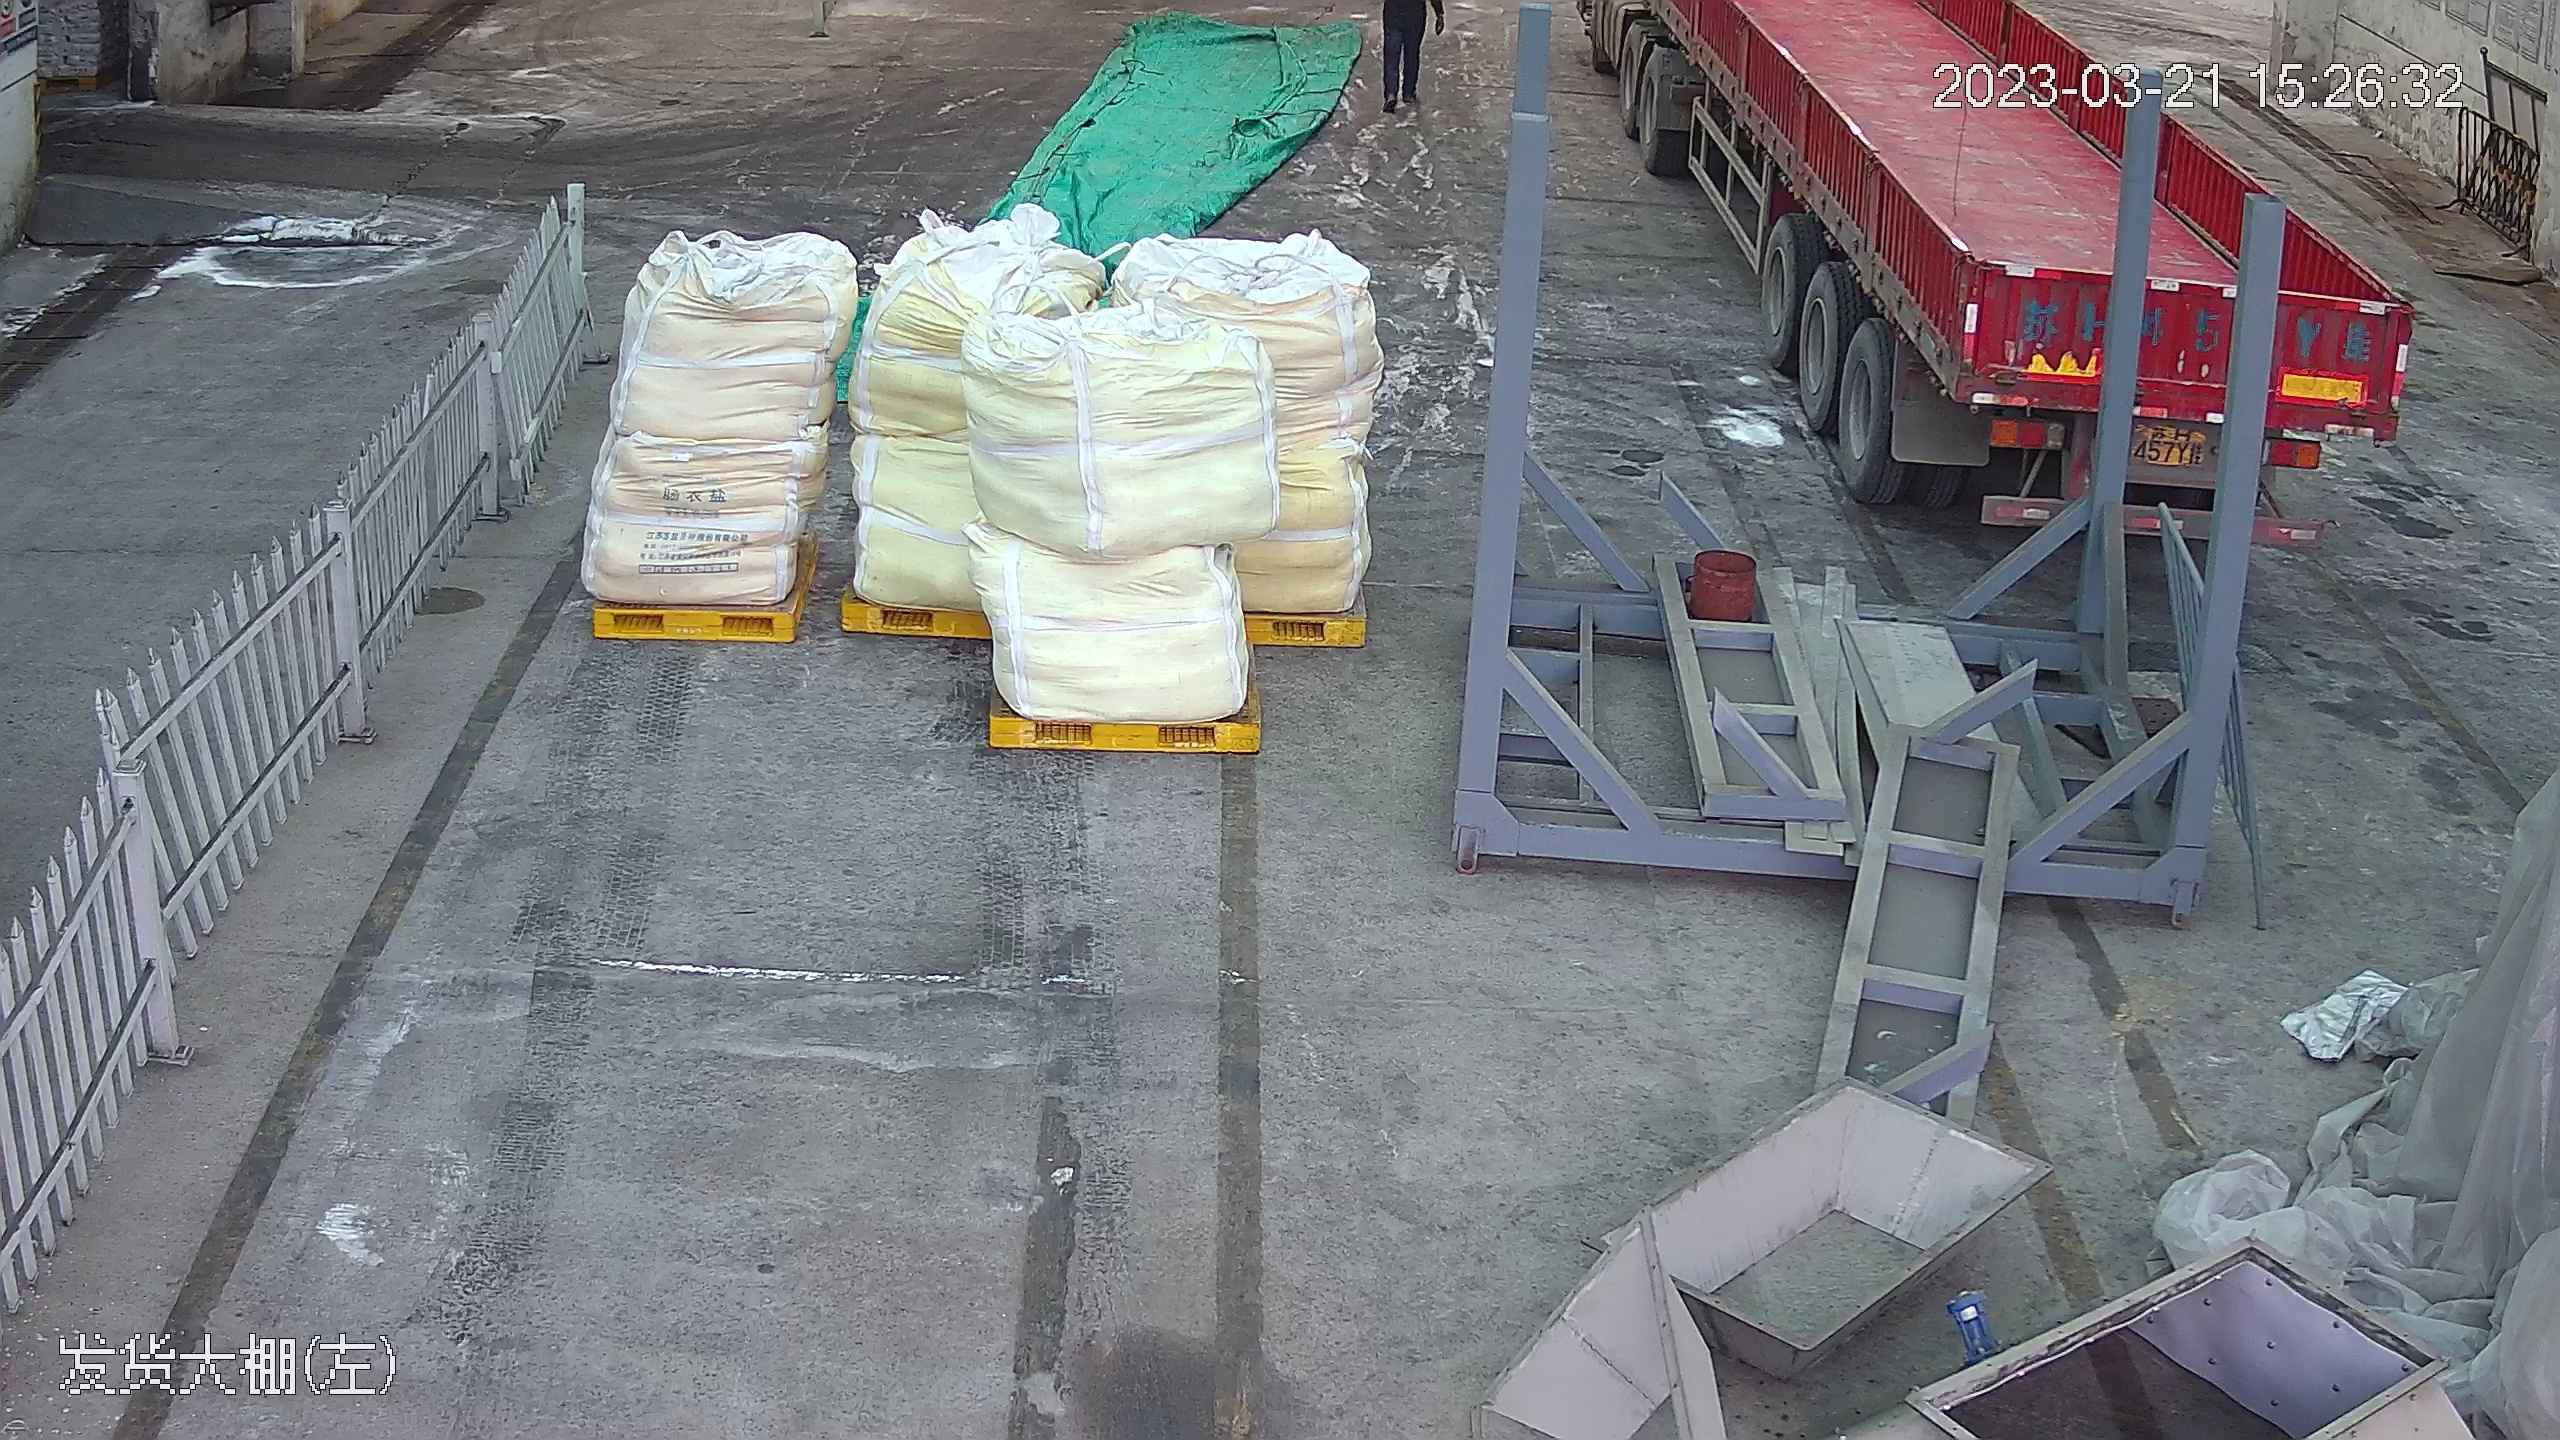people: (1380, 2, 1438, 110)
truck: (1586, 0, 2432, 534)
